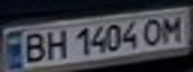0: (106, 21, 127, 52)
1: (69, 24, 93, 56)
4: (118, 18, 145, 50), (90, 21, 109, 54)
B: (18, 29, 48, 64)
H: (39, 26, 69, 61)
M: (157, 12, 190, 43)
O: (139, 16, 169, 46)
